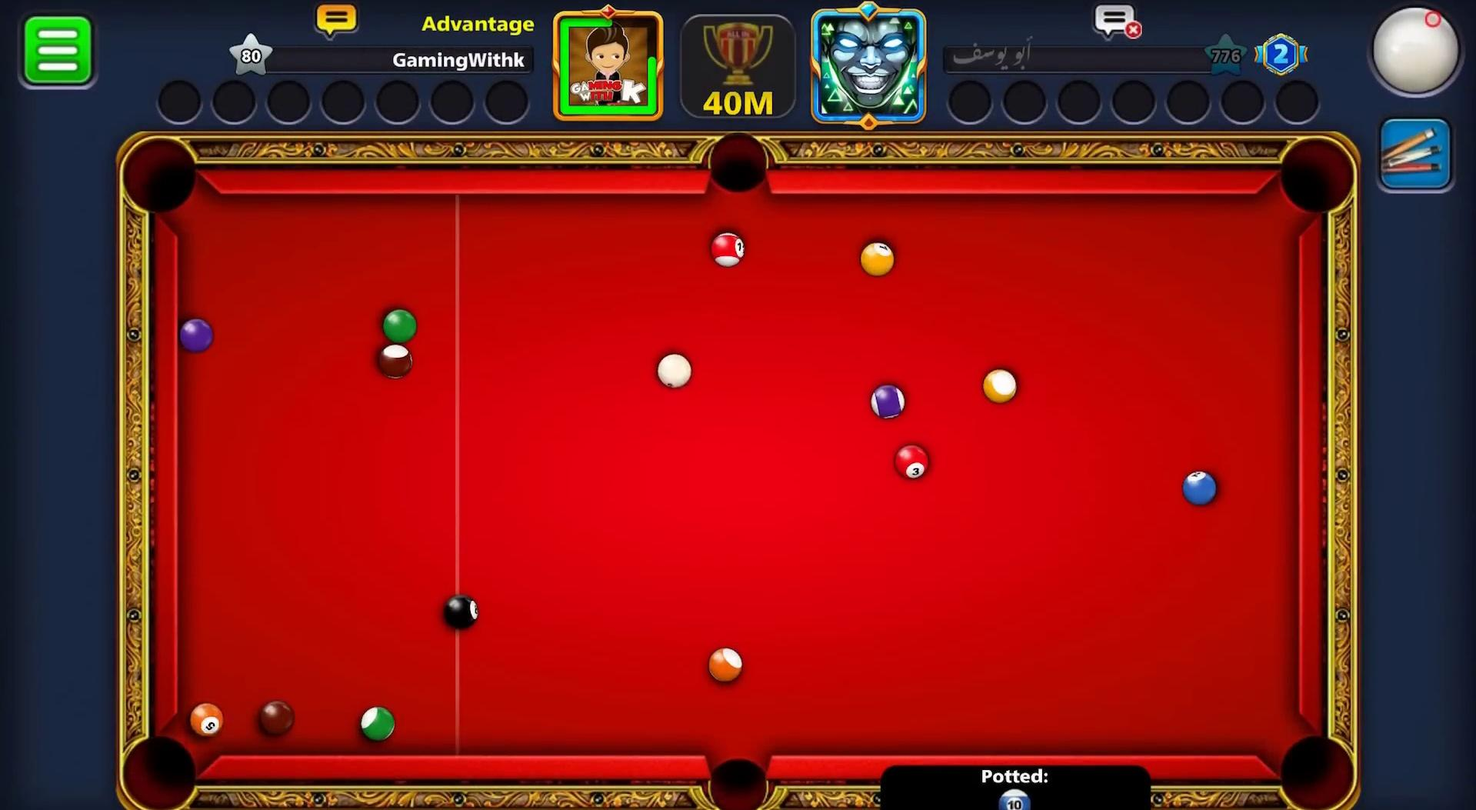Ball: (181, 701, 238, 757), (378, 288, 427, 349), (366, 340, 423, 392), (247, 692, 299, 745), (436, 585, 491, 635), (698, 641, 753, 690), (865, 375, 916, 423), (351, 699, 398, 751), (1180, 466, 1232, 511), (972, 367, 1033, 405), (855, 233, 901, 279), (170, 313, 213, 362), (708, 226, 749, 273), (896, 437, 938, 481)
Hole: (102, 122, 221, 238), (1249, 719, 1380, 810), (1266, 125, 1366, 232), (102, 718, 218, 810), (687, 124, 798, 211), (690, 740, 788, 810)
Play_Area: (178, 193, 1299, 755)
Spin: (1364, 0, 1476, 110)
White: (648, 347, 696, 390)
